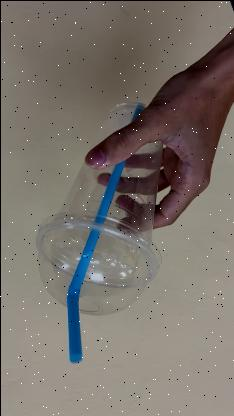Others: (34, 103, 162, 341)
